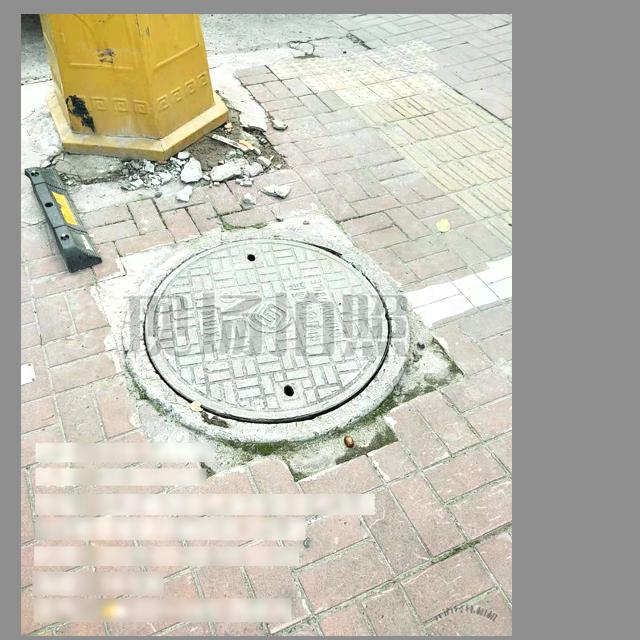good: (123, 228, 411, 443)
